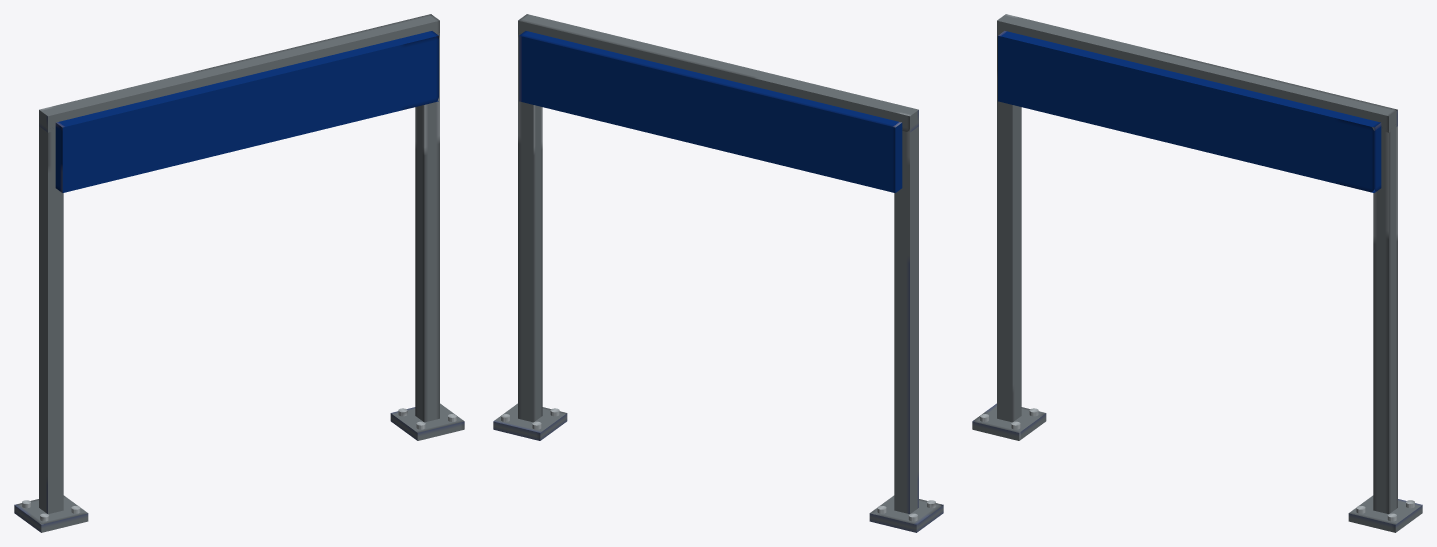
Rendered from nl_station_sign_standing.obj.
The picture shows the model from 3 angles, left to right: view 1: azimuth 30°, elevation 25°; view 2: azimuth 150°, elevation 25°; view 3: azimuth 330°, elevation 25°; orthographic projection.
Visible parts, largest first — view 1: sign_back, pole_right, pole_left, pole_top, foot_right, foot_left; view 2: sign_front, pole_right, pole_left, pole_top, foot_right, foot_left; view 3: sign_back, pole_left, pole_right, pole_top, foot_left, foot_right.
Boxes of the visible parts, <box> form: sign_back: <box>55,31,438,192</box>; pole_right: <box>39,126,63,514</box>; pole_left: <box>415,33,439,422</box>; pole_top: <box>39,14,439,132</box>; foot_right: <box>14,495,88,532</box>; foot_left: <box>390,403,464,440</box>; sign_front: <box>519,31,902,192</box>; pole_right: <box>894,126,918,514</box>; pole_left: <box>518,33,542,422</box>; pole_top: <box>518,14,918,132</box>; foot_right: <box>869,495,943,532</box>; foot_left: <box>493,403,567,440</box>; sign_back: <box>998,31,1381,192</box>; pole_left: <box>1373,124,1397,514</box>; pole_right: <box>997,36,1021,422</box>; pole_top: <box>997,14,1397,132</box>; foot_left: <box>1348,495,1422,532</box>; foot_right: <box>972,403,1046,440</box>.
Bounding box in the file's own units: 3.38 × 3.09 × 0.375.
1 material, 1 textured.
